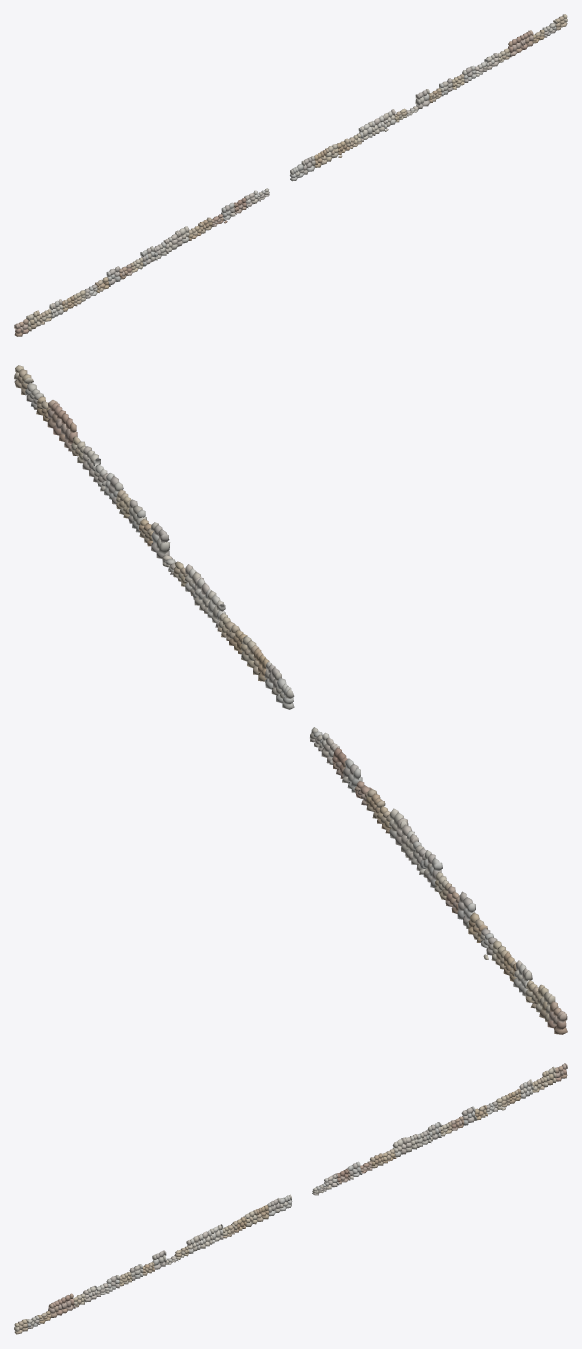
File: farm_3_-3_near.glb
3 renders of one model, top to bottom at view 1: azimuth 90°, elevation 25°; view 2: azimuth 150°, elevation 25°; view 3: azimuth 270°, elevation 25°, orthographic. The views are drawn at different scales.
Parts seen in each view (by area): view 1: geometry_0; view 2: geometry_0; view 3: geometry_0.
Part boxes in pixels (x1=…): geometry_0: x1=14, y1=14, x2=567, y2=336; geometry_0: x1=14, y1=365, x2=567, y2=1034; geometry_0: x1=14, y1=1063, x2=567, y2=1334.
Bounding box in the file's own units: 58.72 × 3.83 × 47.91.
